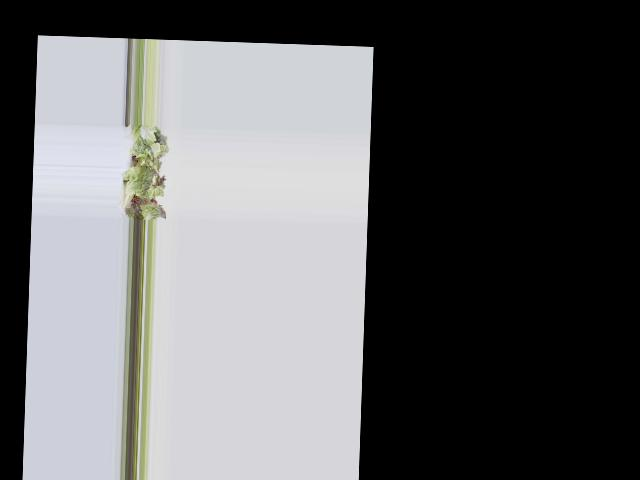lettuce: (127, 129, 165, 217)
